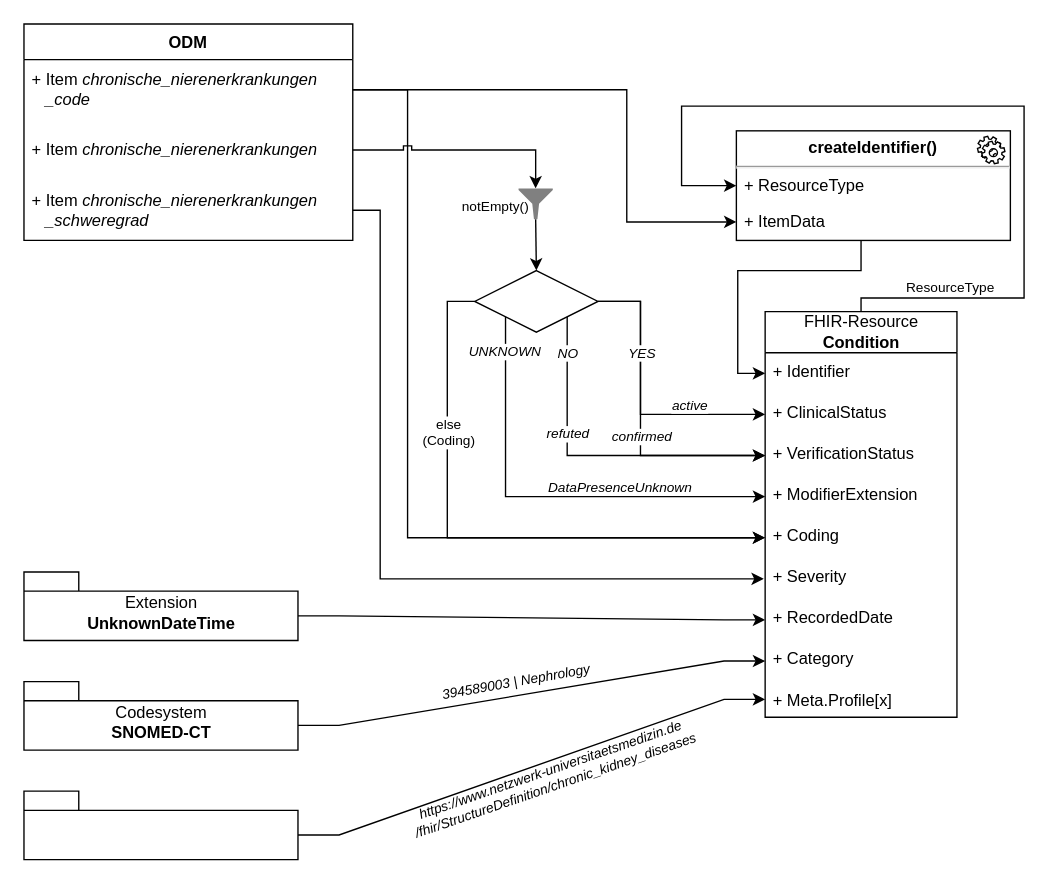
Image size: 1059x884. Some labels were removed from this diagram. The centre of each missing label's shape, as x and y in pixels:
"GECCO Profiles" goes at [160,825].
"getCode()" goes at [535,300].
